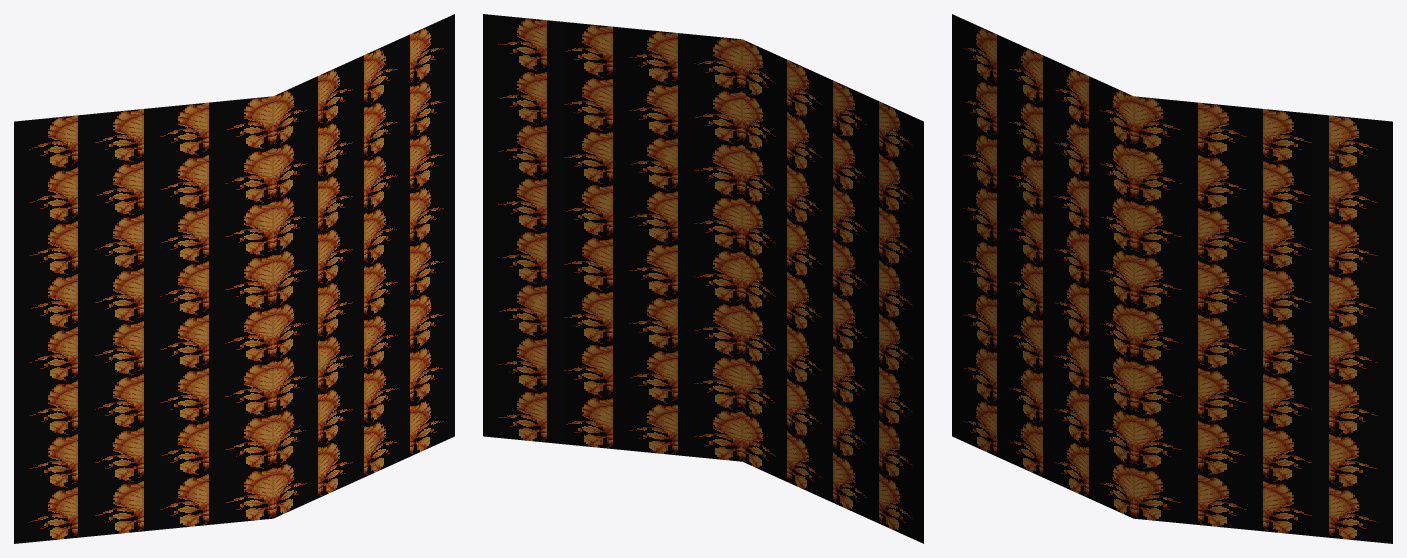
Rendered from 5041musi51_e.gltf.
3 views of the same model, side by side, from view 1: azimuth 30°, elevation 25°; view 2: azimuth 150°, elevation 25°; view 3: azimuth 330°, elevation 25° (orthographic).
Parts seen in each view (by area): view 1: 5041musi51_e; view 2: 5041musi51_e; view 3: 5041musi51_e.
Part boxes in pixels (x1,y1,x2,y2): 5041musi51_e: (14, 14, 454, 543); 5041musi51_e: (483, 14, 923, 543); 5041musi51_e: (952, 14, 1392, 543).
Bounding box in the file's own units: 0.3003 × 0.2749 × 0.0459.
1 material, 1 textured.
